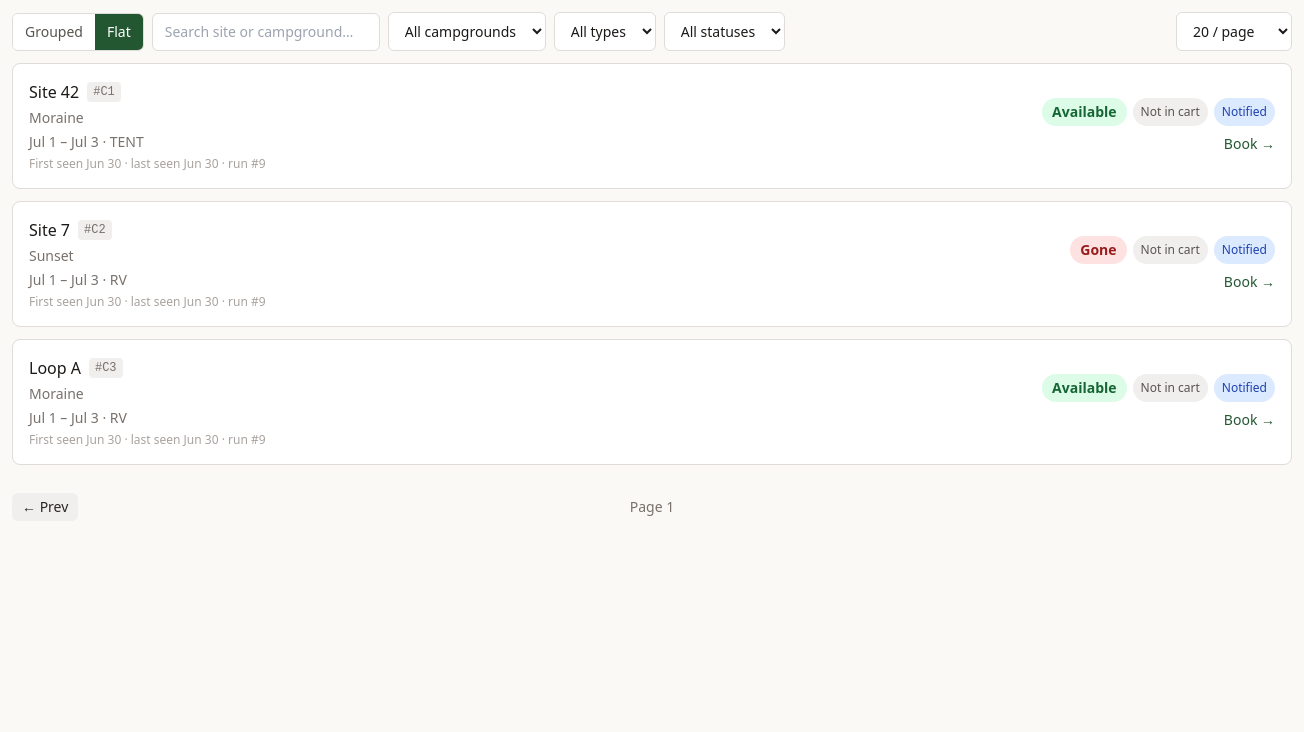
Scenario: ResultsTab (availability filter) › filters to only gone results when 'Gone' is selected
expect the text "Site 42" is shown: met, box [29, 80, 79, 104]
Select "Gone" in the 3rd dropdown named "All statuses" at (724, 32), box [664, 12, 785, 51]
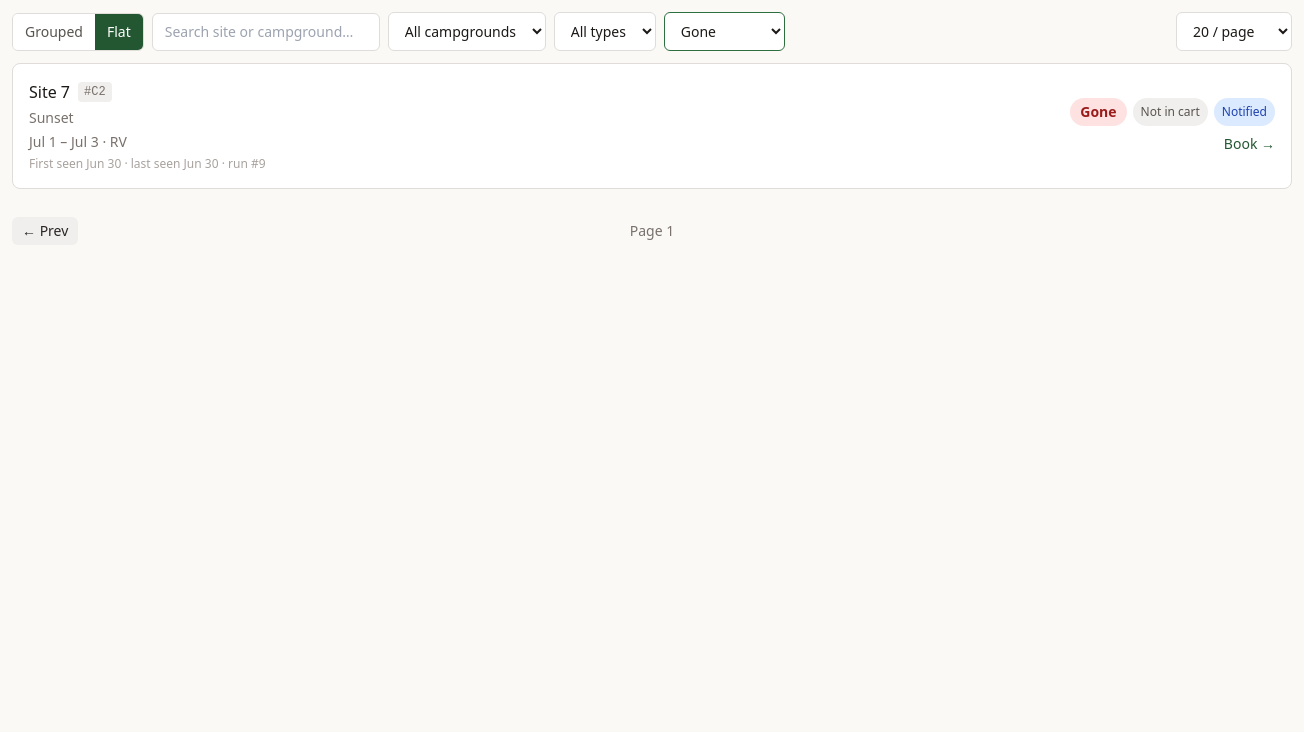
expect the text "Site 7" is shown: met, box [29, 80, 70, 104]
expect the text "Site 42" is gone: met
expect the text "Loop A" is gone: met
